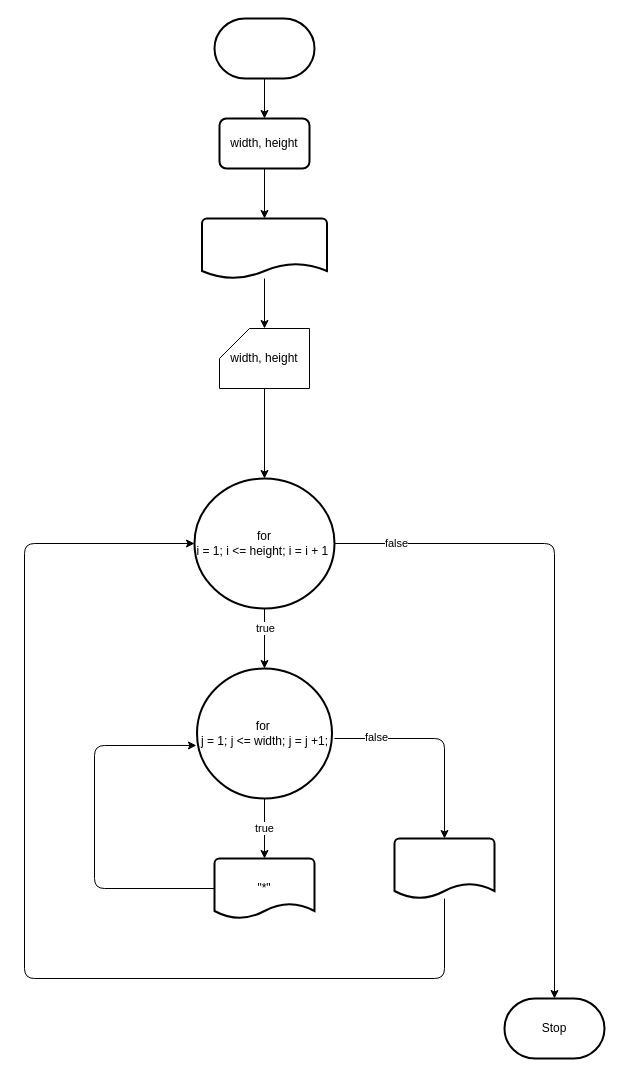
This 623x1076 diagram has some shape labels left out. The shapes that lost their labels are listed below. From the top down, each one's box as (x1, y1, x2, y2) in pixels, then its label:
(213, 17, 315, 79): Start
(200, 217, 328, 279): "Enter dimensions:"
(393, 837, 495, 899): "\n"
